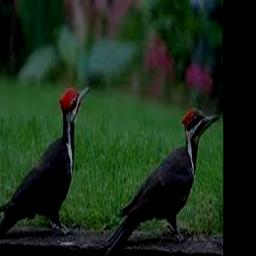Woodpecker: (101, 106, 220, 256), (0, 85, 91, 237)
